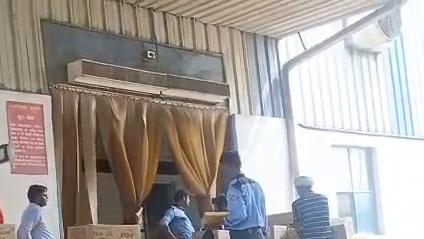box: (66, 224, 142, 239), (0, 224, 15, 239)
